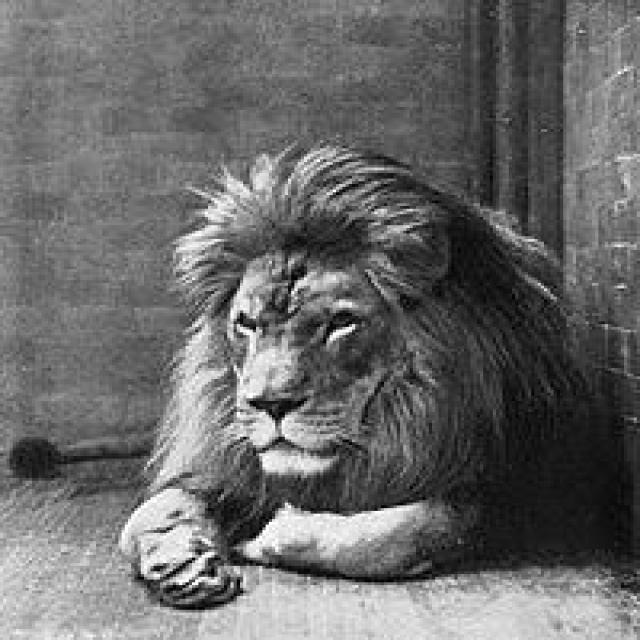Lion: (126, 155, 582, 612)
